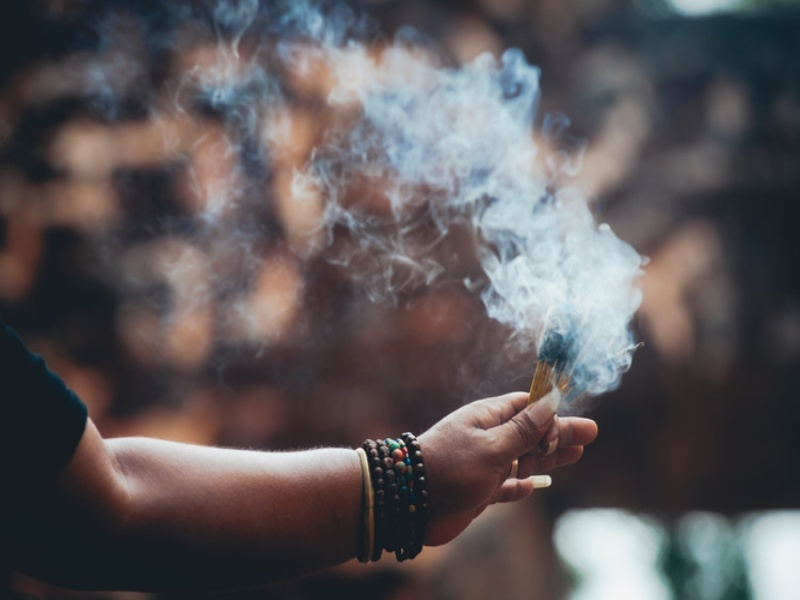smoke: (285, 2, 628, 388)
